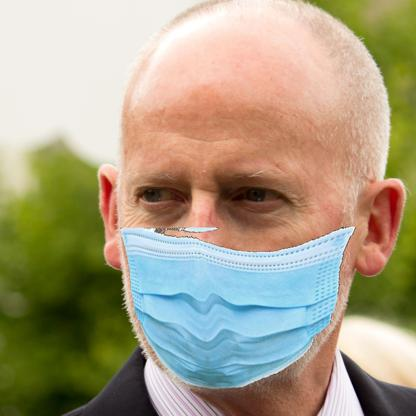mask: (119, 226, 344, 391)
